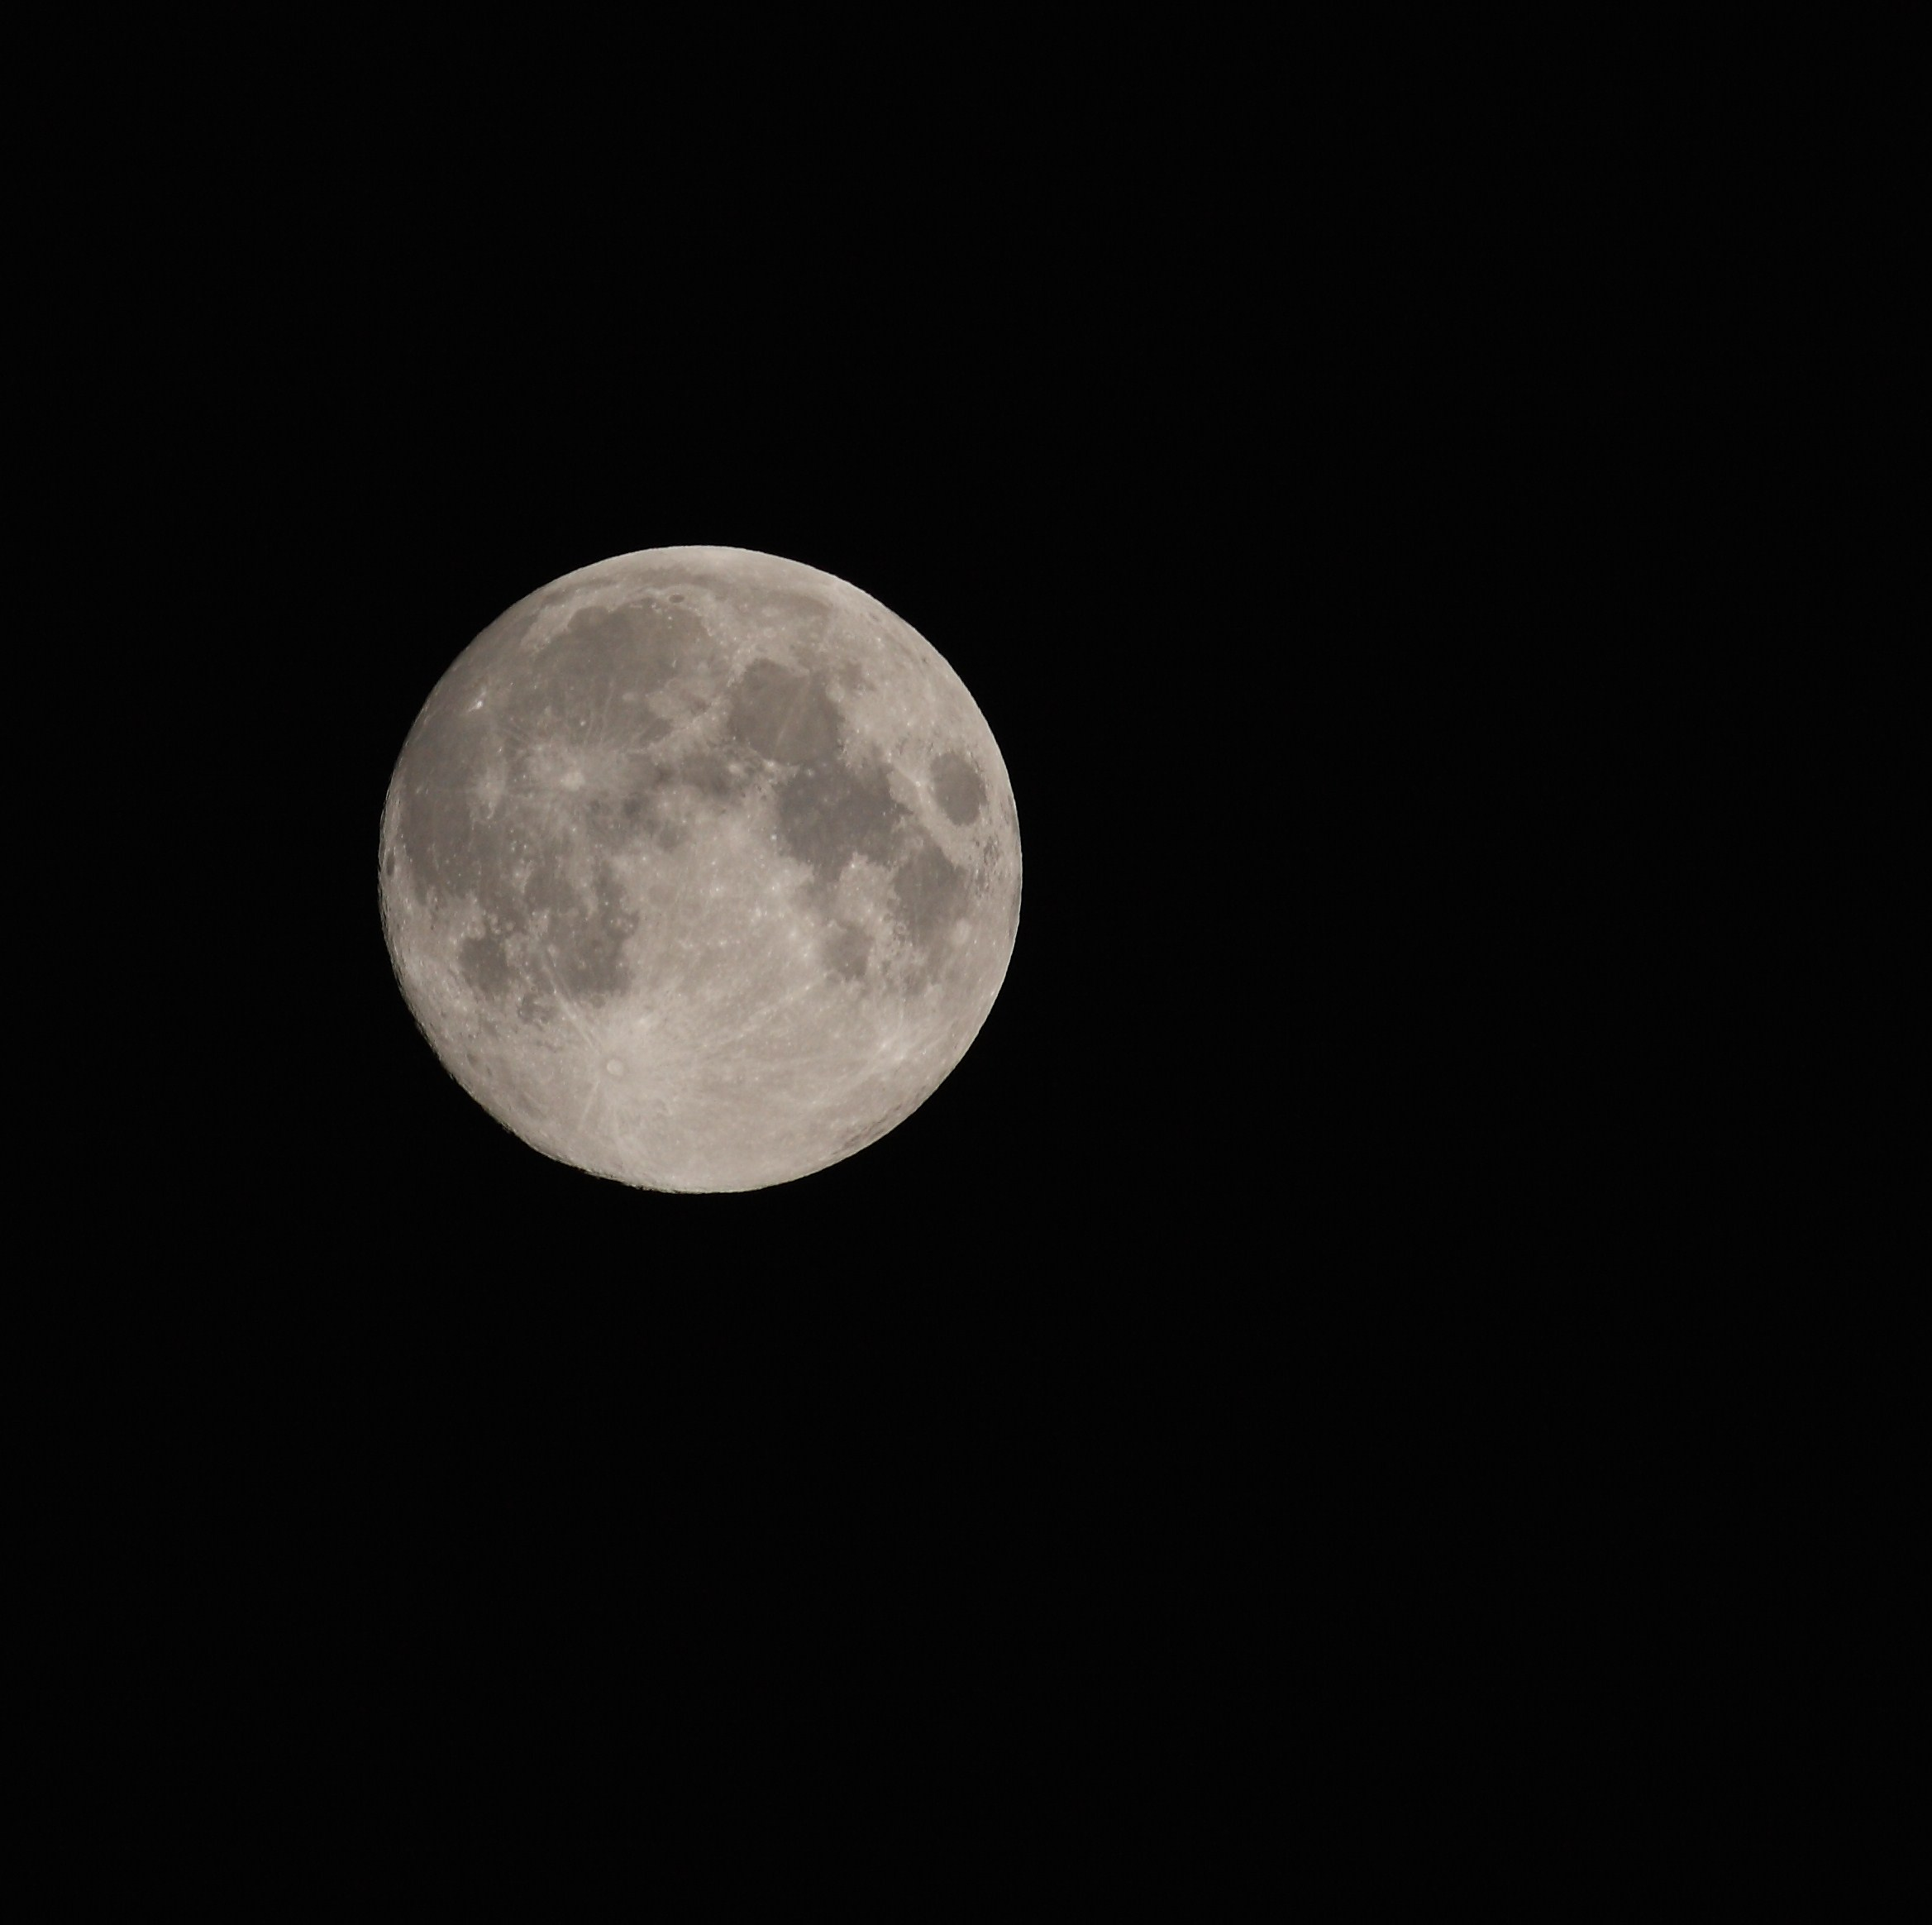crater: (913, 740, 996, 841), (573, 1026, 654, 1109), (546, 756, 598, 809), (458, 1047, 504, 1084), (471, 767, 504, 804), (582, 985, 613, 1017), (381, 843, 400, 885), (663, 589, 689, 610), (661, 675, 686, 693), (758, 626, 783, 642), (534, 1010, 552, 1029), (908, 776, 924, 793), (472, 695, 487, 714), (525, 982, 541, 998), (705, 857, 721, 869), (763, 758, 777, 770)
